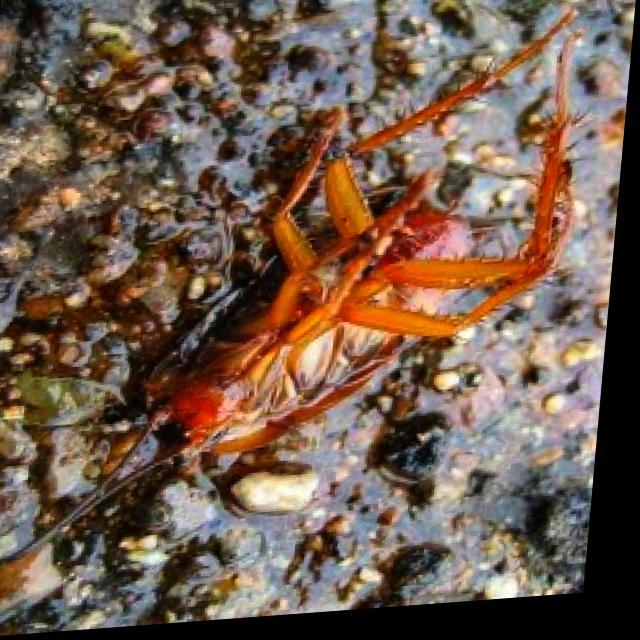cockroach: (3, 7, 593, 581)
